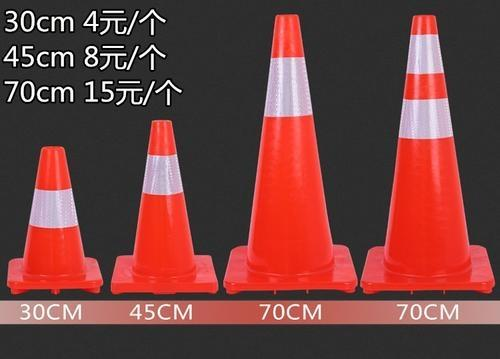cone_barrel: (365, 19, 480, 296), (229, 23, 342, 296), (118, 124, 209, 286), (9, 149, 101, 293)
